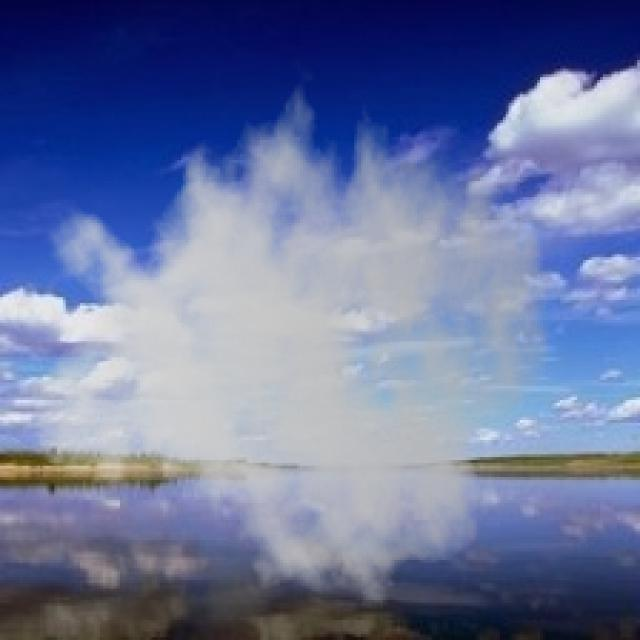Smoke: (29, 60, 552, 623)
